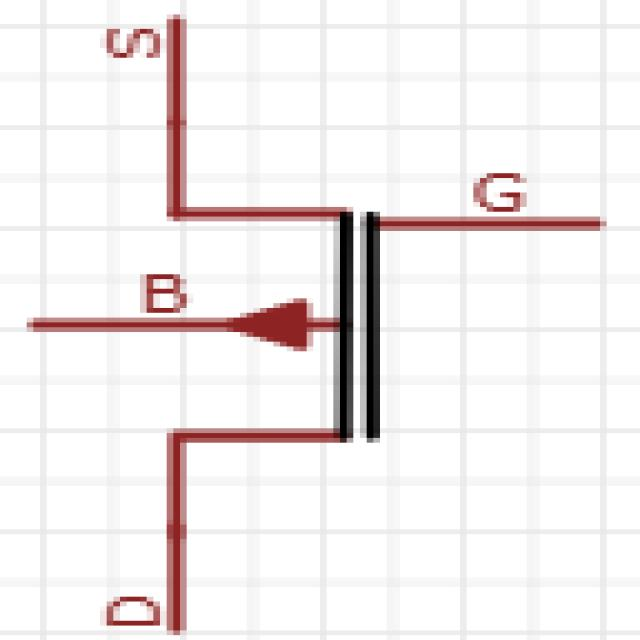pmos: (27, 14, 620, 640)
